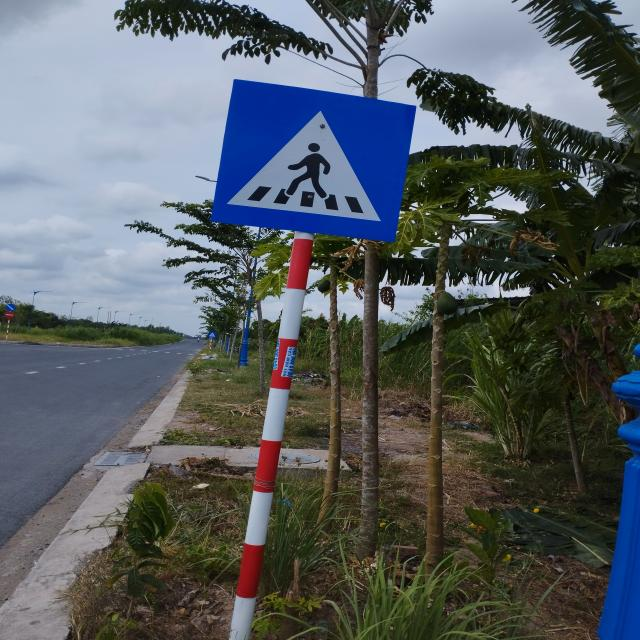Giao_Nhau_Duong_Uu_Tien: (212, 79, 416, 243)
